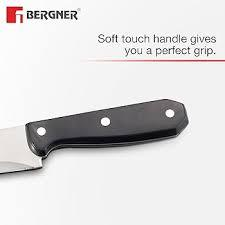Knife: (0, 97, 188, 176)
